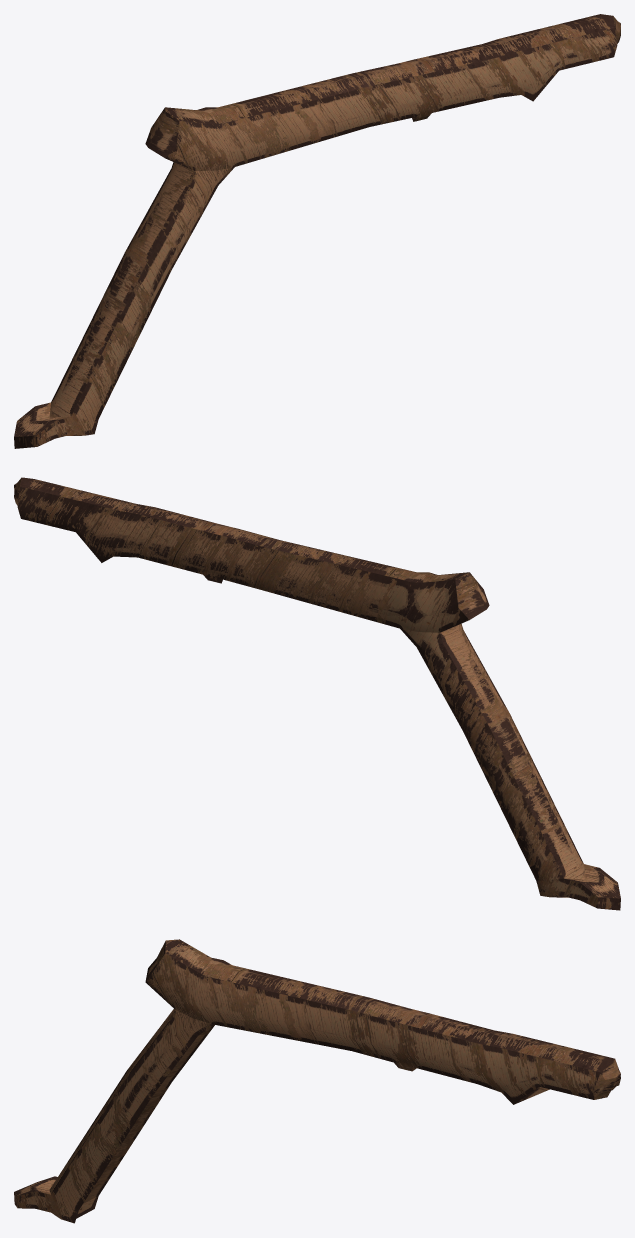
File: patyk1.fbx
3 renders of one model, top to bottom at view 1: azimuth 30°, elevation 25°; view 2: azimuth 150°, elevation 25°; view 3: azimuth 330°, elevation 25°, orthographic.
Parts seen in each view (by area): view 1: pCube3; view 2: pCube3; view 3: pCube3.
Part boxes in pixels (x1,y1,x2,y2): pCube3: (14, 14, 620, 448); pCube3: (14, 477, 620, 910); pCube3: (14, 939, 620, 1223).
Size of the model in its own units: 13.22 by 6.28 by 1.13.
